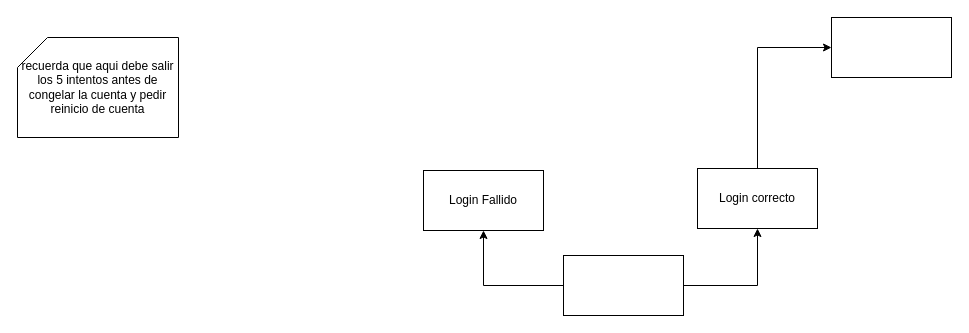
Image size: 969x333. Some labels were removed from this diagram. The shapes that lost their labels are listed below. From the top down, each one's box as (x1, y1, x2, y2) in pixels, then its label:
(830, 16, 952, 78): Dashboard
(562, 254, 684, 316): Login
